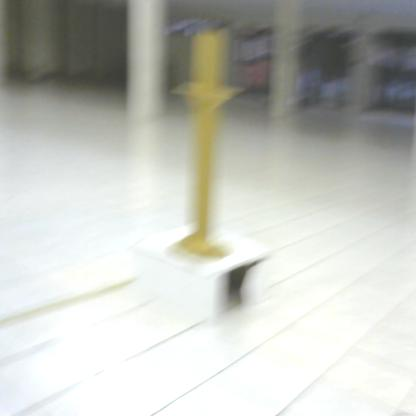pole: (168, 29, 249, 265)
